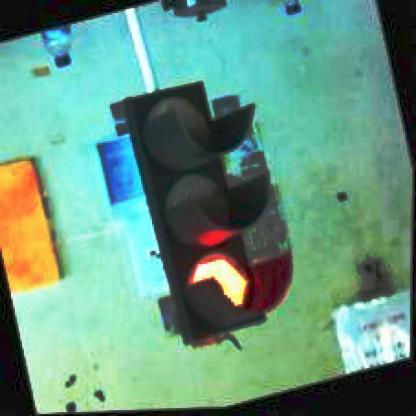Traffic Light -Red-: (119, 65, 306, 346)
